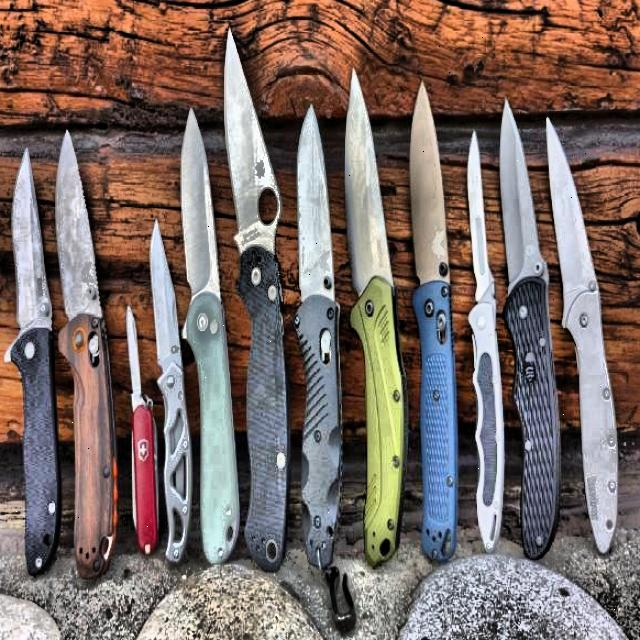knife: (220, 20, 292, 564), (540, 116, 623, 580), (496, 85, 572, 564), (47, 132, 122, 592), (344, 62, 408, 570), (178, 97, 240, 578), (403, 77, 462, 572), (8, 136, 64, 584), (292, 89, 341, 570), (140, 208, 198, 582), (464, 130, 506, 553), (110, 302, 162, 574)
